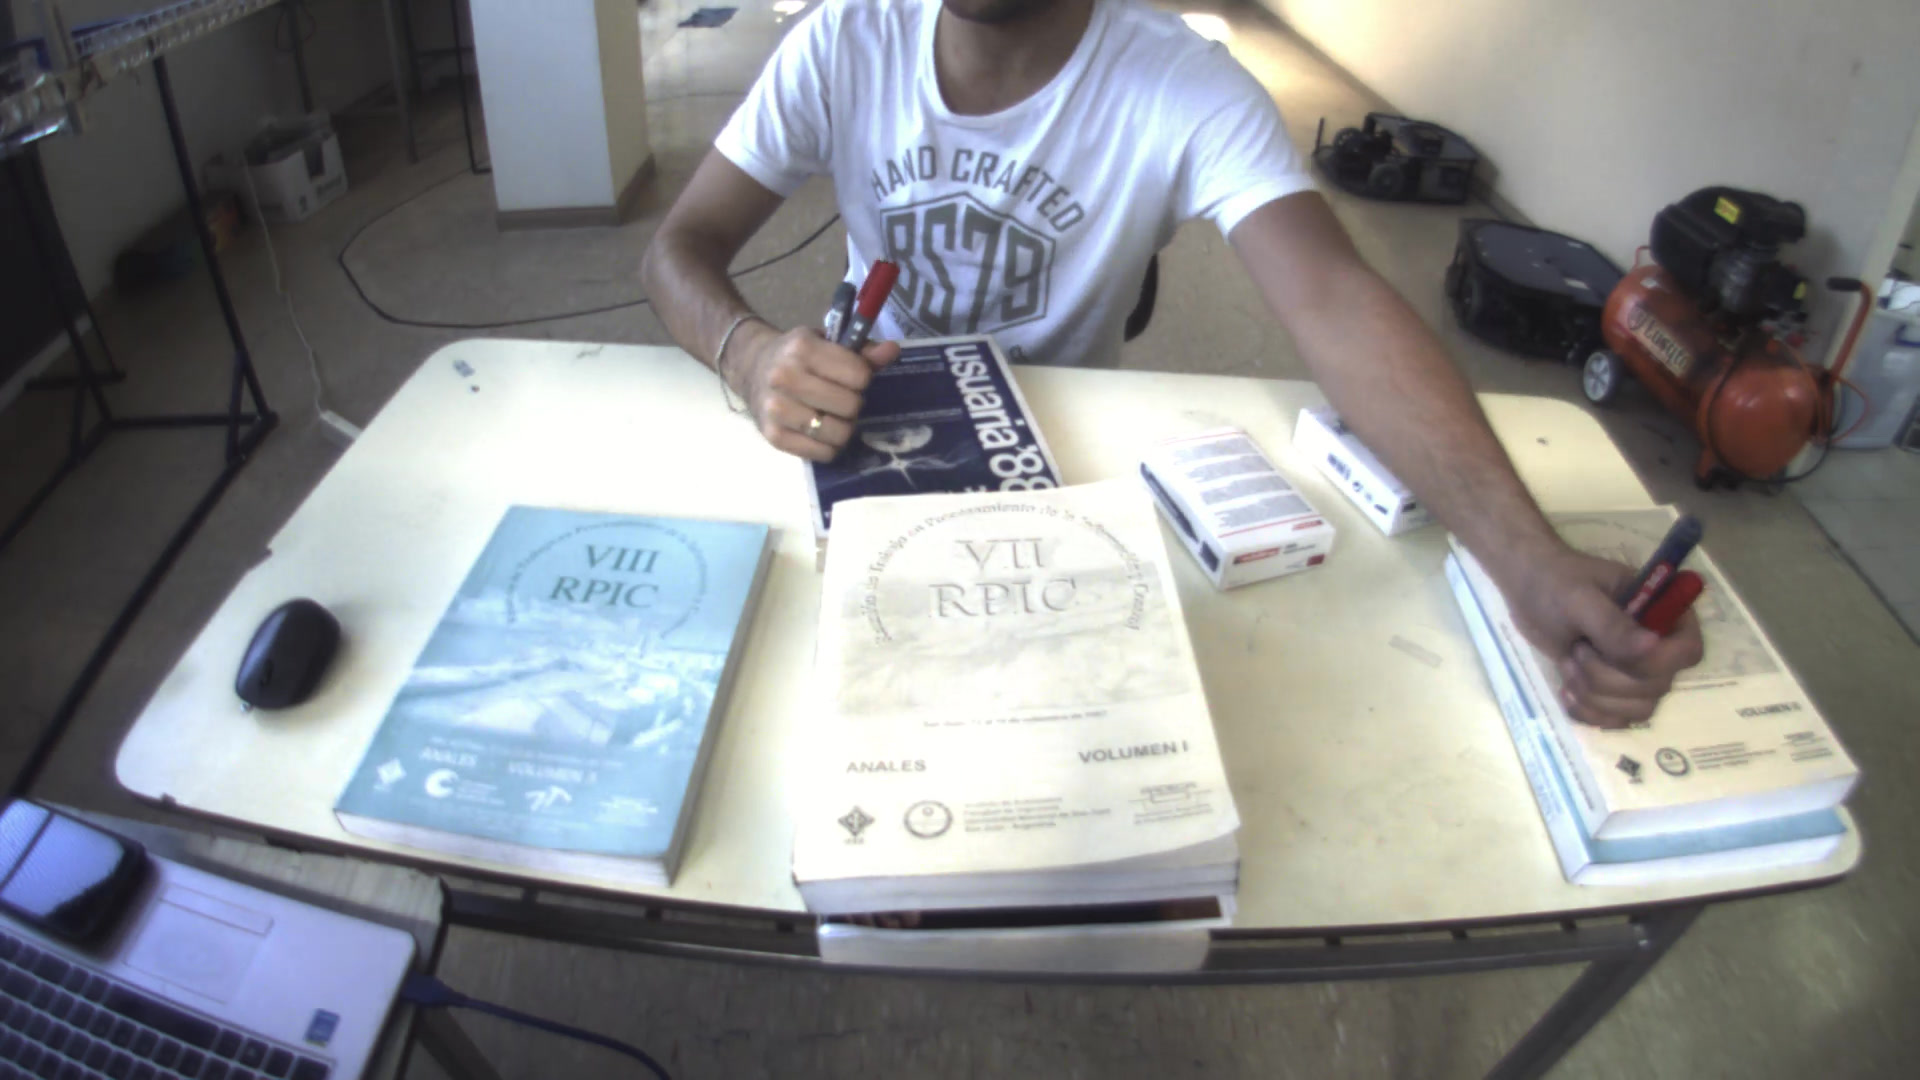hand: (1513, 525, 1720, 738), (724, 297, 905, 465)
